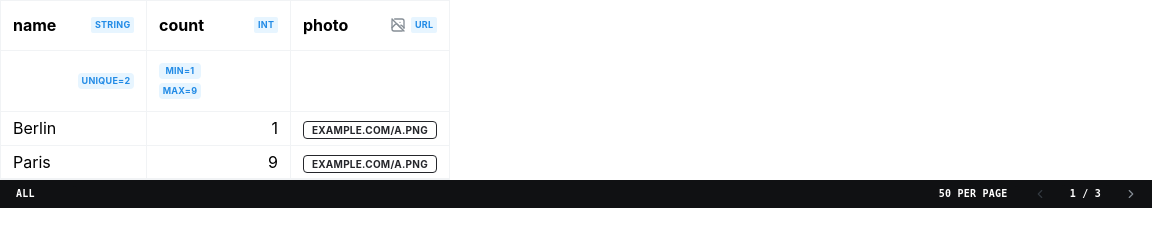
Test case: PropertesTable › shows the full link in a tooltip when a link badge is hovered
This screenshot has width=1152, height=225.
Hover over the text "example.com/a.png" in the row of "Berlin" at (370, 130), box [312,122,428,138]
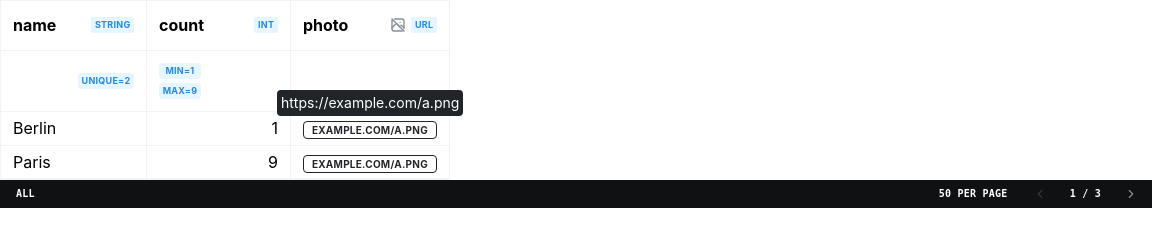
Result: the tooltip reads "https://example.com/a.png" at [281,94,459,111]
